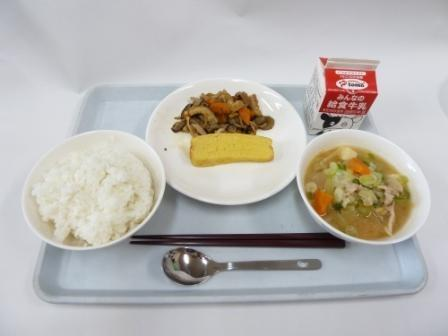Bread: (180, 130, 279, 173)
Milk: (302, 53, 384, 139)
Rice: (24, 130, 155, 248)
Soups: (296, 136, 430, 250)
vegetable based cooked food: (172, 85, 271, 129)
